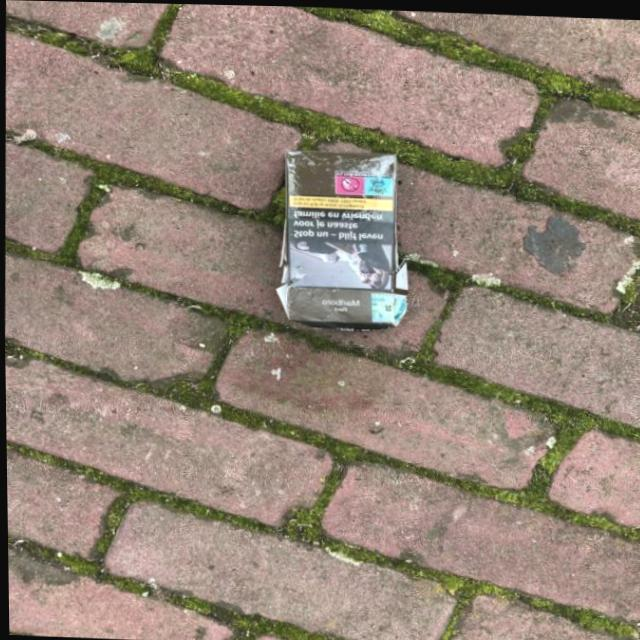Paper: (270, 145, 411, 334)
